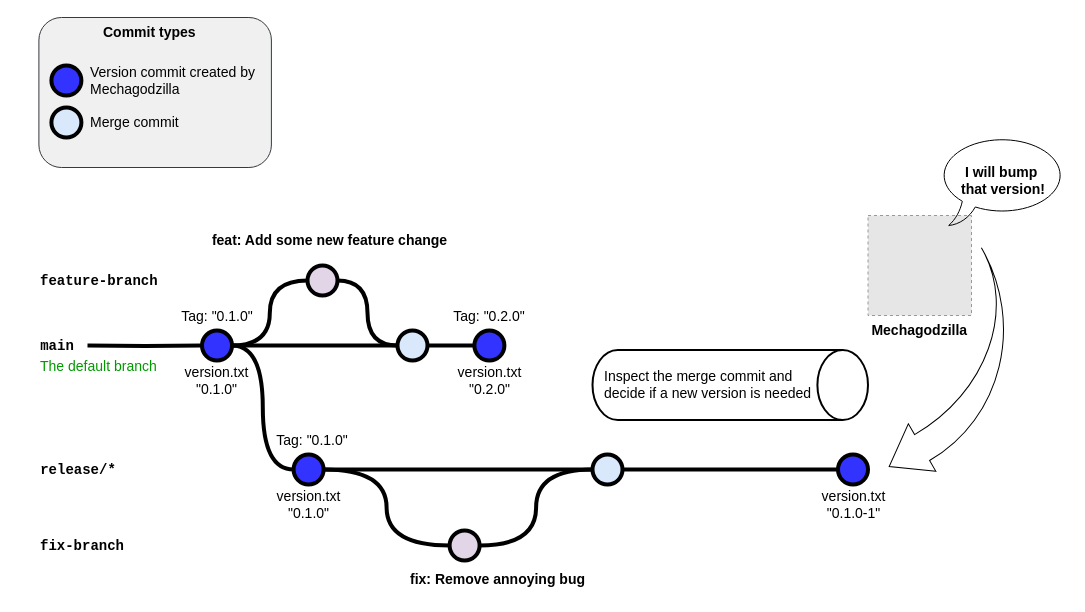
This 1085x612 diagram has some shape labels left out. Grey dashed boxes stand in for pictures. Each missing label, with the box of its shape:
merge pipeline: (591, 348, 868, 420)
Tag: "0.1.0-1": (816, 246, 1067, 490)
